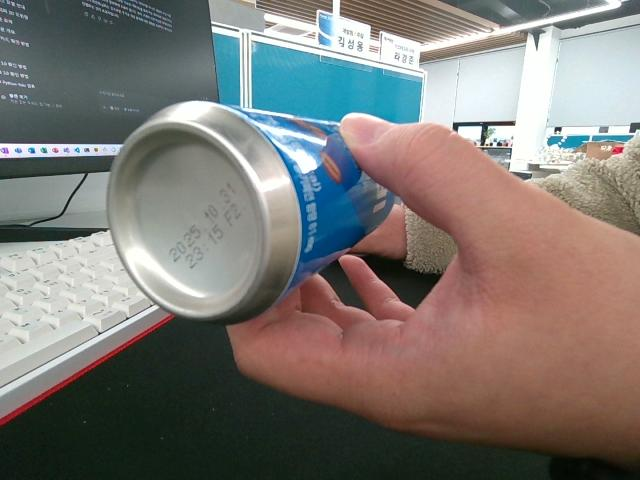letsbe: (105, 98, 399, 325)
